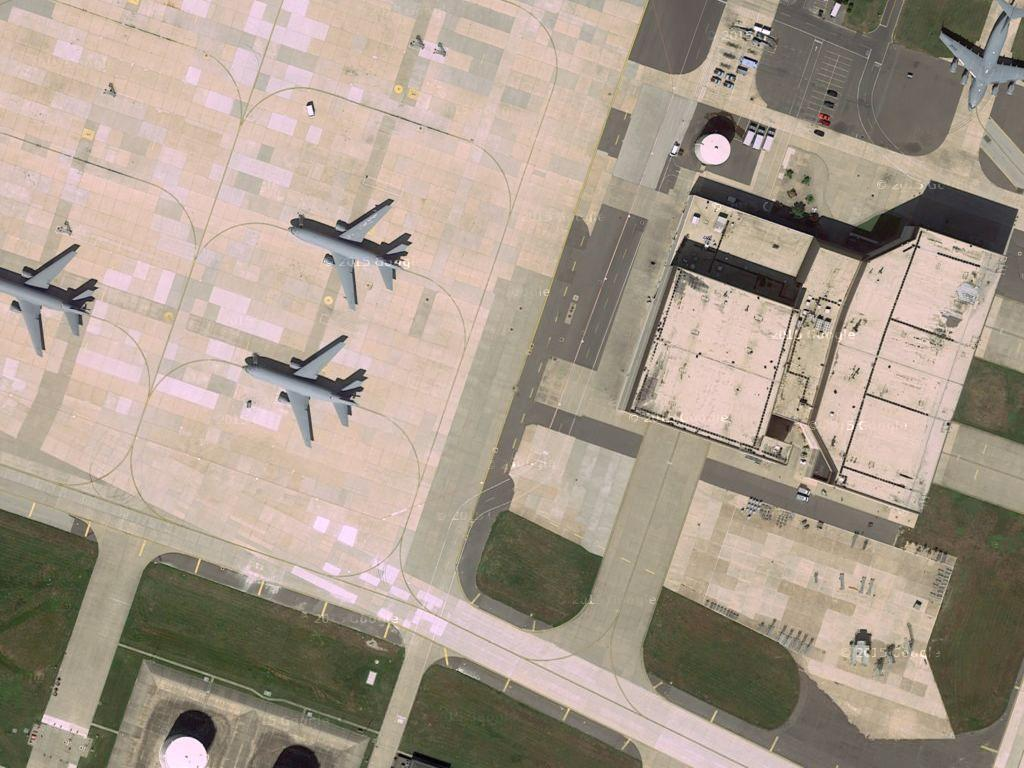C-17: (937, 4, 1021, 115)
KC-10: (244, 330, 370, 450), (284, 197, 415, 308), (4, 240, 101, 355)
